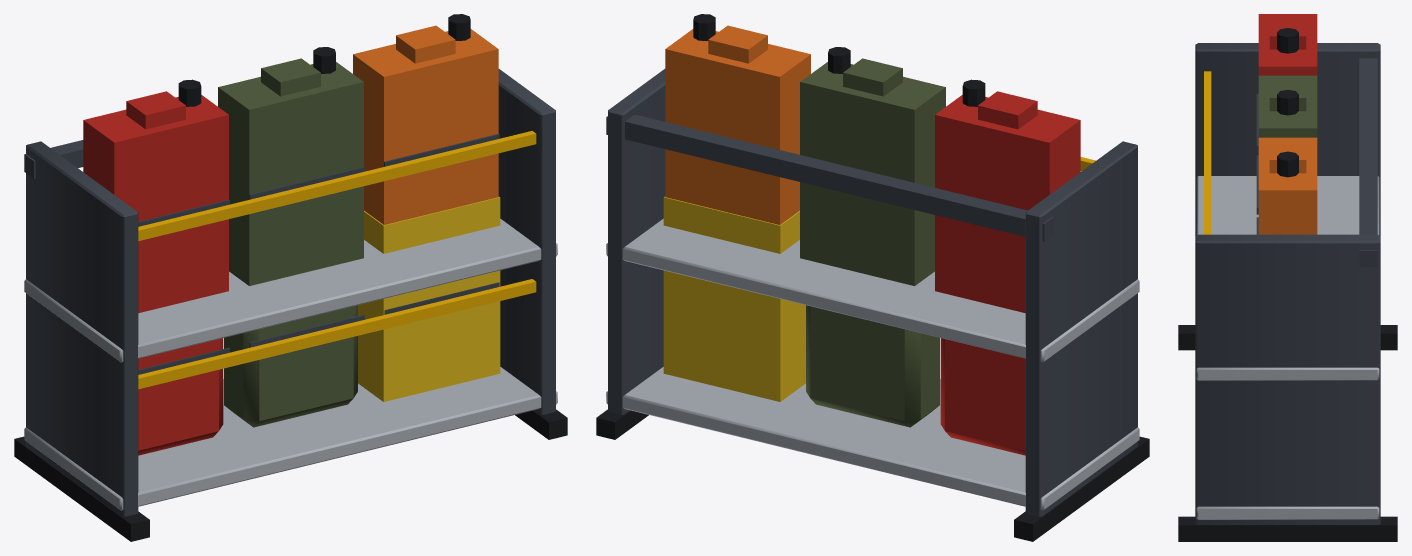
File: barrel_jerrycan_rack.glb
3 views of the same model, side by side, from view 1: azimuth 30°, elevation 25°; view 2: azimuth 150°, elevation 25°; view 3: azimuth 270°, elevation 25° (orthographic). The views are drawn at different scales.
Parts seen in each view (by area): view 1: barrel_jerrycan_rack; view 2: barrel_jerrycan_rack; view 3: barrel_jerrycan_rack.
Boxes of the visible parts, <box> form: barrel_jerrycan_rack: <box>14,14,567,541</box>; barrel_jerrycan_rack: <box>596,14,1149,541</box>; barrel_jerrycan_rack: <box>1178,14,1397,541</box>.
Bounding box in the file's own units: 1.3 × 1.1 × 0.6.
